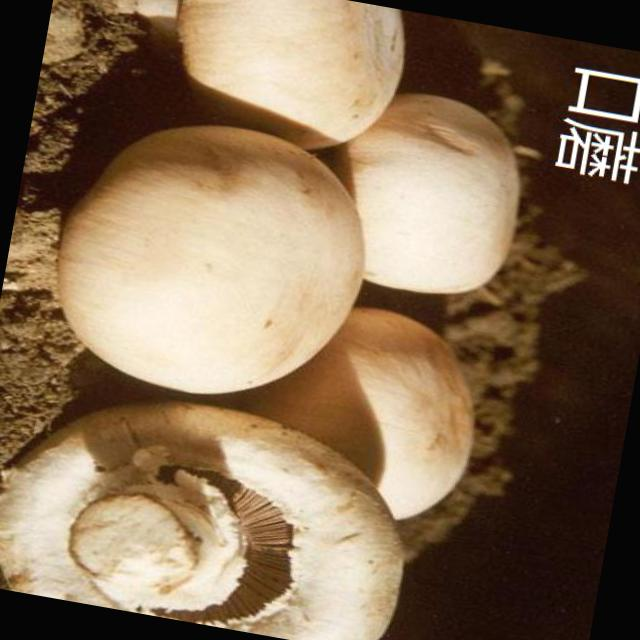Agaricus bisporus: (0, 370, 425, 640), (35, 101, 381, 421), (235, 293, 492, 536), (116, 0, 411, 168)
